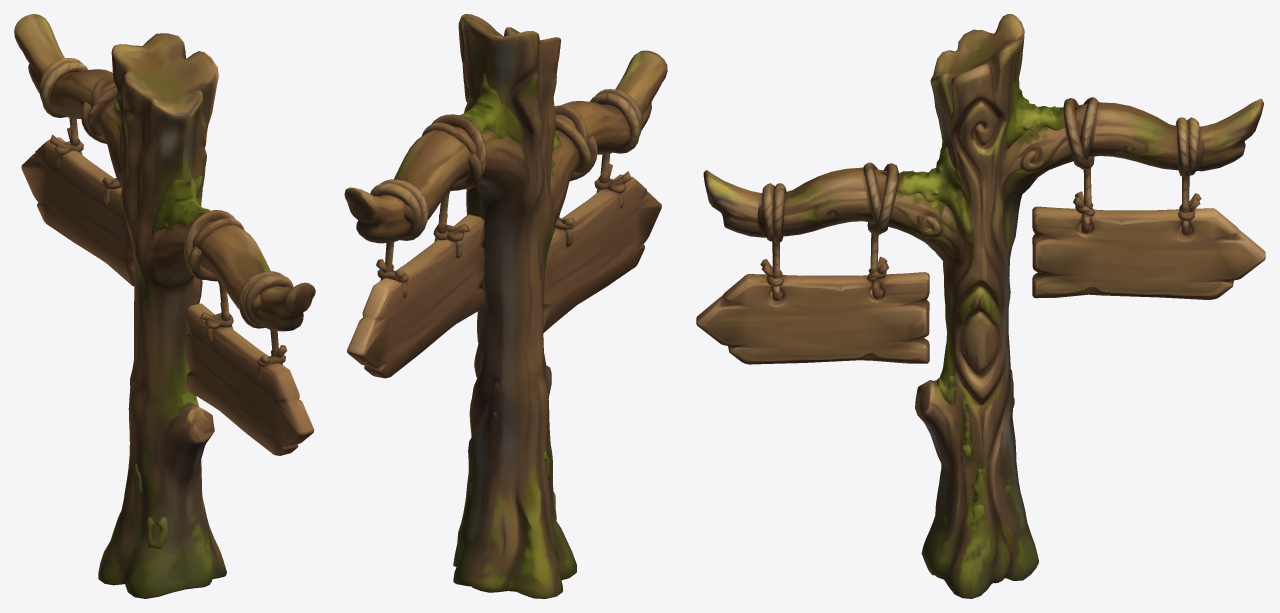
File: 09-signpost.glb
The picture shows the model from 3 angles, left to right: view 1: azimuth 30°, elevation 25°; view 2: azimuth 150°, elevation 25°; view 3: azimuth 270°, elevation 25°; orthographic projection. The views are drawn at different scales.
Visible parts, largest first — view 1: tripo_node_cd3bcc02-f4bc-4fea-b2c5-23fbcdb46e48; view 2: tripo_node_cd3bcc02-f4bc-4fea-b2c5-23fbcdb46e48; view 3: tripo_node_cd3bcc02-f4bc-4fea-b2c5-23fbcdb46e48.
Boxes of the visible parts, <box> form: tripo_node_cd3bcc02-f4bc-4fea-b2c5-23fbcdb46e48: <box>14,14,315,598</box>; tripo_node_cd3bcc02-f4bc-4fea-b2c5-23fbcdb46e48: <box>344,14,667,598</box>; tripo_node_cd3bcc02-f4bc-4fea-b2c5-23fbcdb46e48: <box>696,14,1265,598</box>.
Bounding box in the file's own units: 0.2173 × 0.9995 × 0.9536.
Materials: 1 (1 with a texture image).
